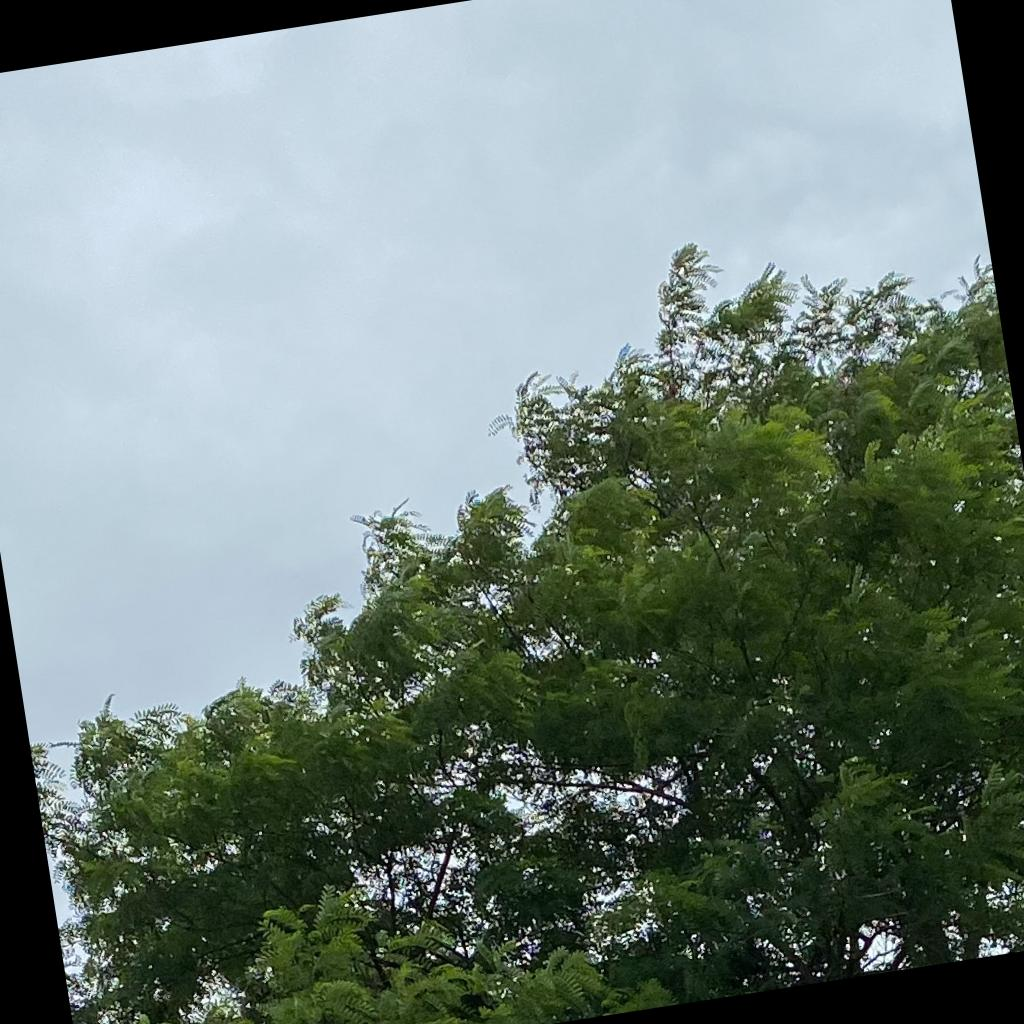tree: (30, 240, 1023, 1024)
